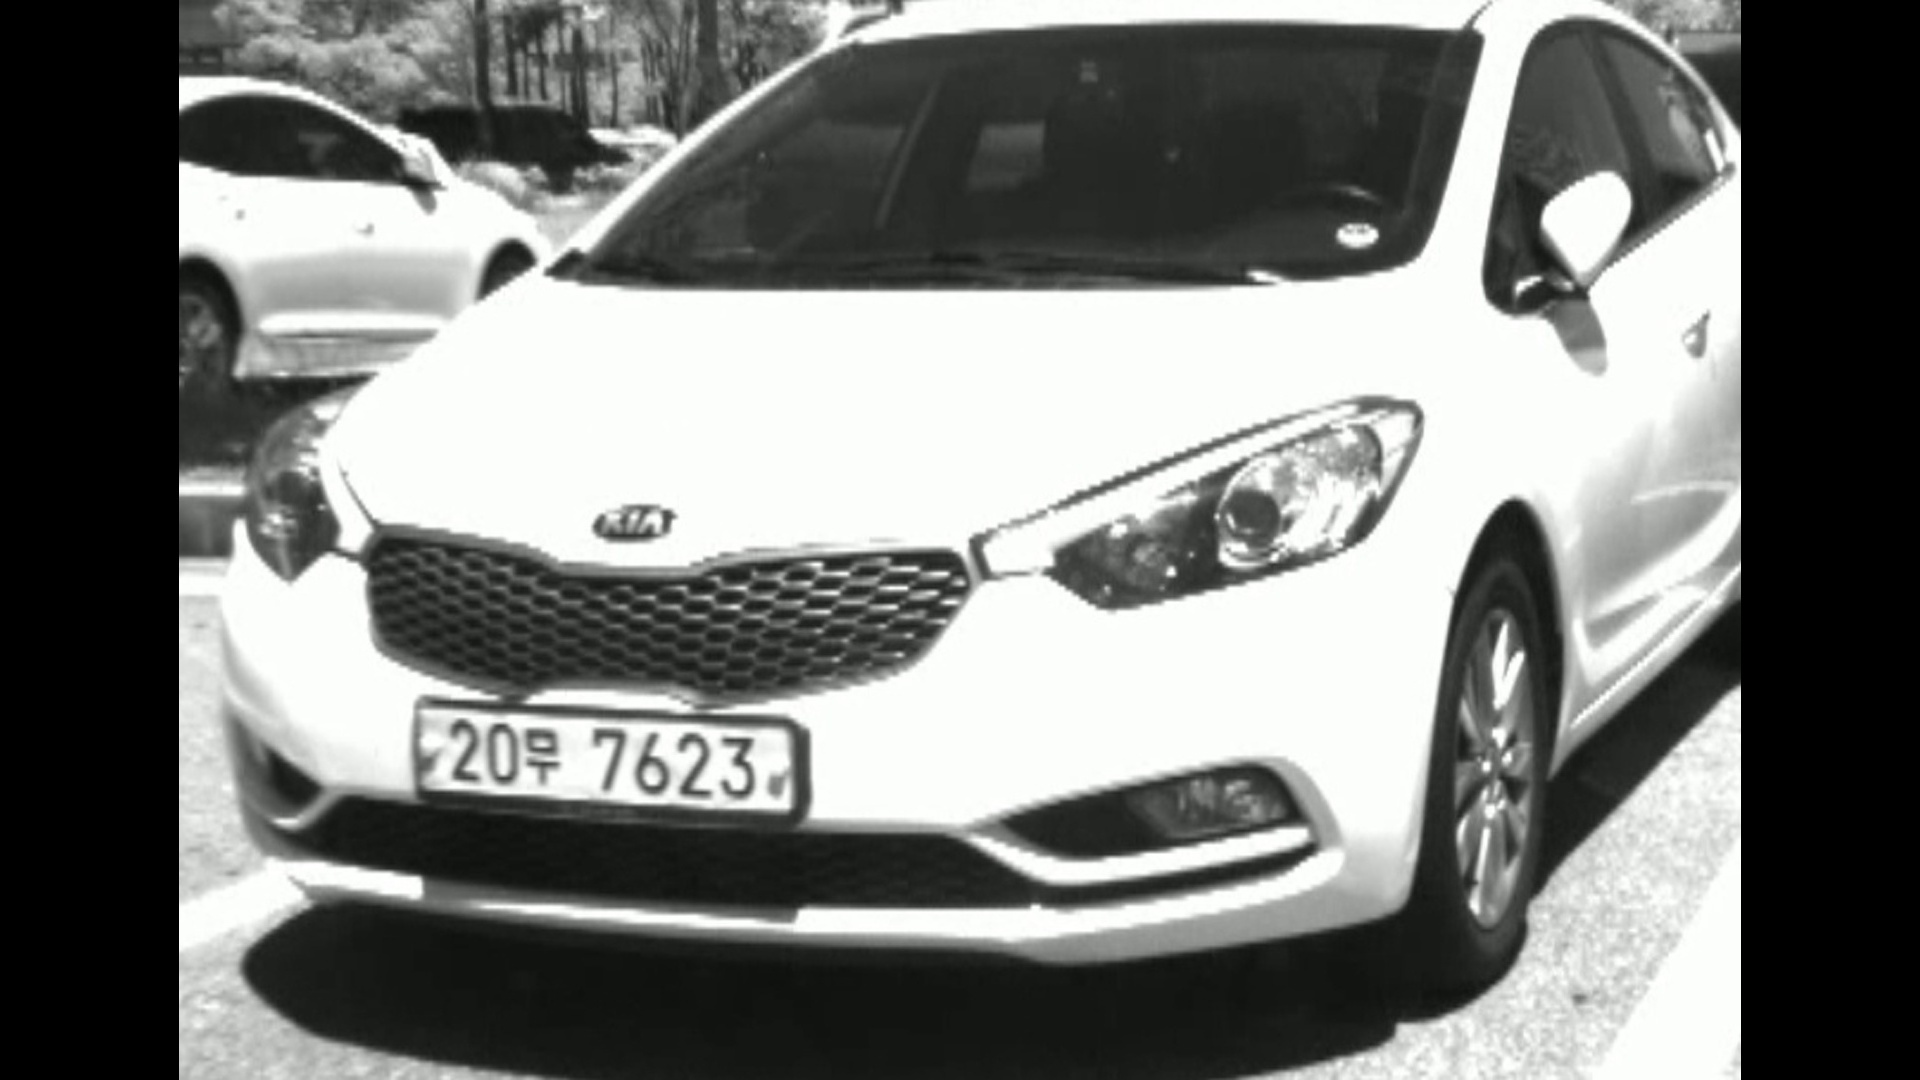license_plate: (413, 699, 808, 824)
